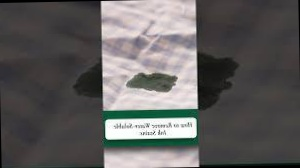ink: (127, 73, 178, 90)
